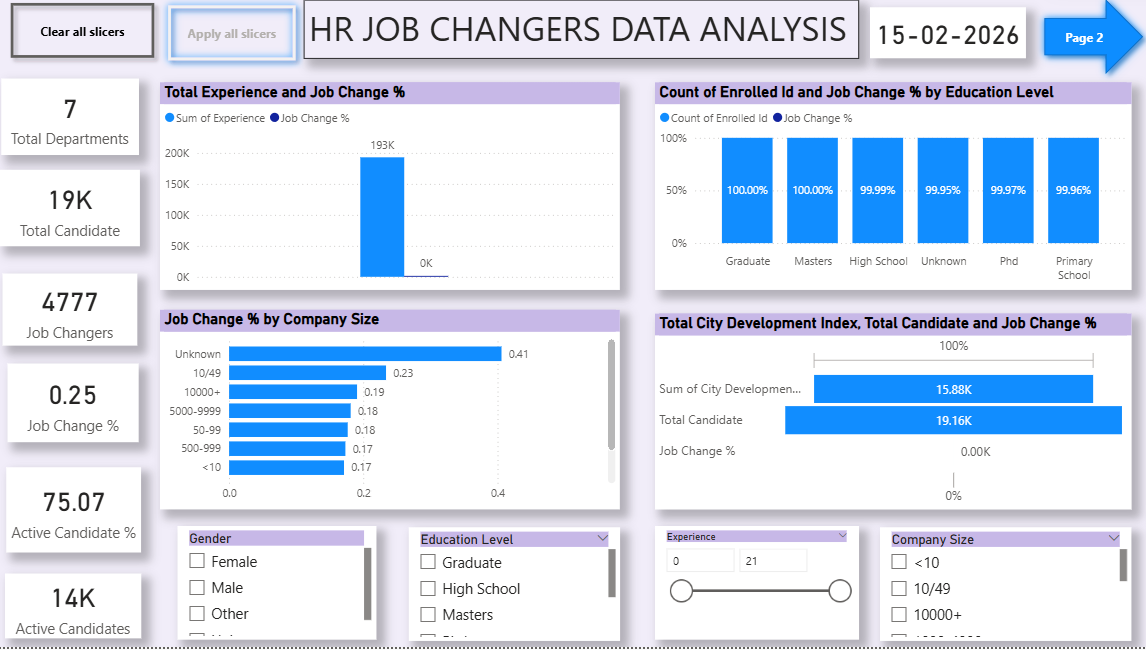

What the dashboard file says about the page in this screenshot:
{"tool":"powerbi","page":{"name":"Page 1","canvas":[1280,720],"ordinal":0},"visuals":[{"type":"textbox","box":[349.9,9.6,609.3,64.5],"z":0},{"type":"card","fields":{"Values":["My Dax Function.Total Departments"]},"box":[17.8,96.1,150.9,83.7],"z":1000},{"type":"card","fields":{"Values":["My Dax Function.Total Candidate"]},"box":[16.5,196.2,153.7,83.7],"z":5000},{"type":"card","fields":{"Values":["My Dax Function.Job Changers"]},"box":[19.2,310.1,148.2,79.6],"z":5001},{"type":"card","fields":{"Values":["My Dax Function.Job Change %"]},"box":[24.7,408.9,144.1,86.4],"z":5002},{"type":"card","fields":{"Values":["My Dax Function.Active Candidate %"]},"box":[23.3,522.8,148.2,93.3],"z":5003},{"type":"card","fields":{"Values":["My Dax Function.Active Candidates"]},"box":[22,639.5,149.6,71.4],"z":5004},{"type":"clusteredColumnChart","title":"Total Experience and Job Change %","fields":{"Y":["Sum(Train Data.Experience)","My Dax Function.Job Change %"]},"box":[192.1,100.2,505,227.8],"z":5005},{"type":"hundredPercentStackedColumnChart","fields":{"Category":["Train Data.Education Level"],"Y":["CountNonNull(Train Data.Enrolled Id)","My Dax Function.Job Change %"]},"box":[735.5,100.2,522.8,227.8],"z":5006},{"type":"funnel","title":"Total City Development Index, Total Candidate and Job Change %","fields":{"Y":["Sum(Train Data.City Development Index)","My Dax Function.Total Candidate","My Dax Function.Job Change %"]},"box":[735.5,354,522.8,215.4],"z":5007},{"type":"barChart","fields":{"Category":["Train Data.Company Size"],"Y":["My Dax Function.Job Change %"]},"box":[192.1,349.9,505,219.6],"z":5008},{"type":"slicer","fields":{"Values":["Train Data.Gender"]},"box":[211.3,587.3,218.2,124.9],"z":5009},{"type":"slicer","fields":{"Values":["Train Data.Education Level"]},"box":[465.2,588.7,231.9,124.9],"z":5010},{"type":"slicer","fields":{"Values":["Train Data.Experience"]},"box":[735.5,587.3,223.7,124.9],"z":5011},{"type":"slicer","fields":{"Values":["Train Data.Company Size"]},"box":[982.5,588.7,275.8,124.9],"z":5012},{"type":"shape","box":[1154,0,126.2,100.2],"z":5013},{"type":"actionButton","box":[19.2,4.1,175.6,78.2],"z":5014},{"type":"actionButton","box":[192.1,6.9,157.8,78.2],"z":5015},{"type":"card","fields":{"Values":["My Dax Function.Today"]},"box":[971.5,17.8,171.5,56.3],"z":5016}]}

Visuals, with their boxes in screenshot pixels (x1, y1, x2, y2), scaled from the page's 1280x720 canvas onto the 1146x650 screenshot:
textbox: {"left": 313, "top": 9, "right": 859, "bottom": 67}
card - My Dax Function.Total Departments: {"left": 16, "top": 87, "right": 151, "bottom": 162}
card - My Dax Function.Total Candidate: {"left": 15, "top": 177, "right": 152, "bottom": 253}
card - My Dax Function.Job Changers: {"left": 17, "top": 280, "right": 150, "bottom": 352}
card - My Dax Function.Job Change %: {"left": 22, "top": 369, "right": 151, "bottom": 447}
card - My Dax Function.Active Candidate %: {"left": 21, "top": 472, "right": 154, "bottom": 556}
card - My Dax Function.Active Candidates: {"left": 20, "top": 577, "right": 154, "bottom": 642}
"Total Experience and Job Change %" clusteredColumnChart: {"left": 172, "top": 90, "right": 624, "bottom": 296}
hundredPercentStackedColumnChart - Train Data.Education Level x CountNonNull(Train Data.Enrolled Id): {"left": 659, "top": 90, "right": 1127, "bottom": 296}
"Total City Development Index, Total Candidate and Job Change %" funnel: {"left": 659, "top": 320, "right": 1127, "bottom": 514}
barChart - Train Data.Company Size x My Dax Function.Job Change %: {"left": 172, "top": 316, "right": 624, "bottom": 514}
slicer - Train Data.Gender: {"left": 189, "top": 530, "right": 385, "bottom": 643}
slicer - Train Data.Education Level: {"left": 416, "top": 531, "right": 624, "bottom": 644}
slicer - Train Data.Experience: {"left": 659, "top": 530, "right": 859, "bottom": 643}
slicer - Train Data.Company Size: {"left": 880, "top": 531, "right": 1127, "bottom": 644}
shape: {"left": 1033, "top": 0, "right": 1145, "bottom": 90}
actionButton: {"left": 17, "top": 4, "right": 174, "bottom": 74}
actionButton: {"left": 172, "top": 6, "right": 313, "bottom": 77}
card - My Dax Function.Today: {"left": 870, "top": 16, "right": 1023, "bottom": 67}
